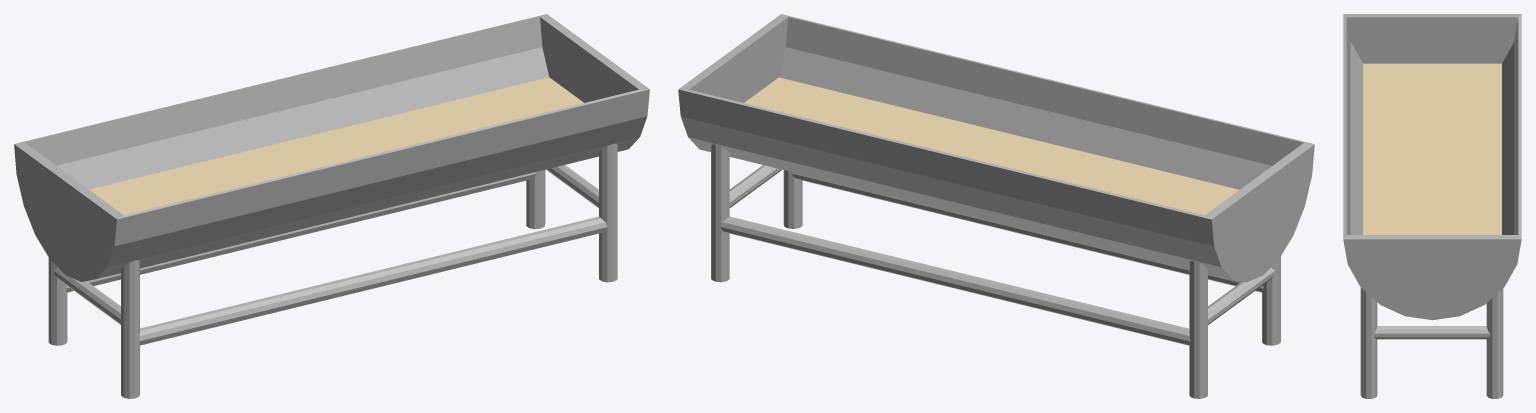
The model's file is Feeding trough Unwrap.fbx.
3 renders of one model, left to right at view 1: azimuth 30°, elevation 25°; view 2: azimuth 150°, elevation 25°; view 3: azimuth 270°, elevation 25°, orthographic. The views are drawn at different scales.
Visible parts, largest first — view 1: Cylinder.002; view 2: Cylinder.002; view 3: Cylinder.002.
Part boxes in pixels (x1,y1,x2,y2): Cylinder.002: (14, 14, 649, 398); Cylinder.002: (678, 14, 1314, 398); Cylinder.002: (1343, 14, 1521, 398).
Bounding box in the file's own units: 598 × 208 × 200.
